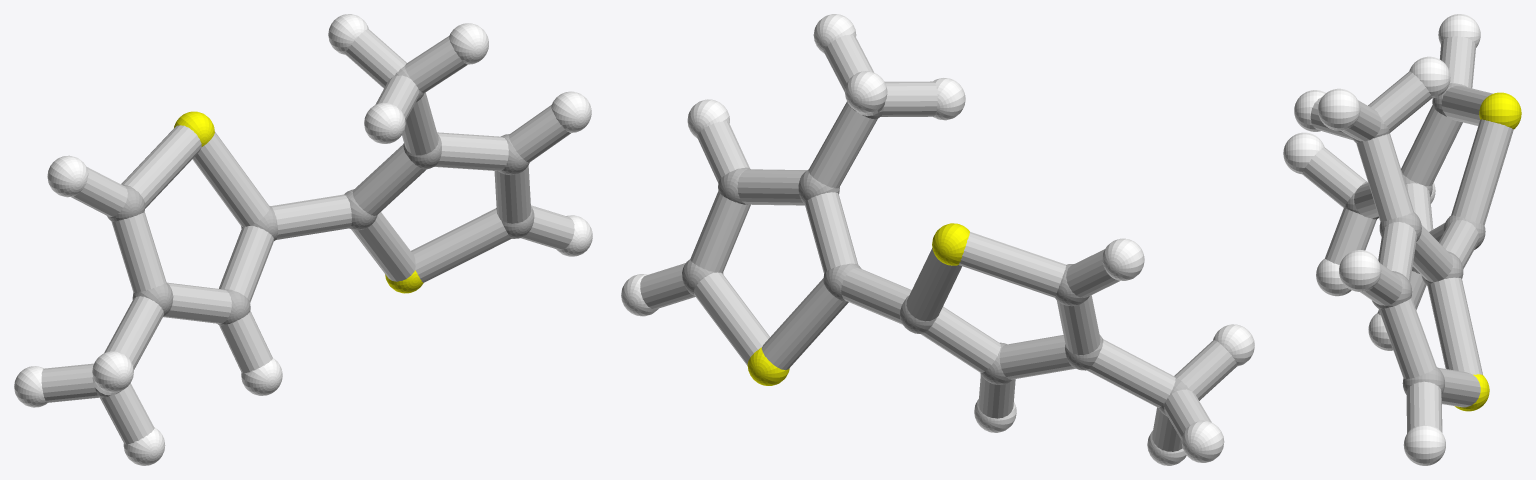
File: Methylthiophene_Phi_25_Theta_50_Methylthiophene.glb
3 renders of one model, left to right at view 1: azimuth 30°, elevation 25°; view 2: azimuth 150°, elevation 25°; view 3: azimuth 270°, elevation 25°, orthographic. The views are drawn at different scales.
Parts seen in each view (by area): view 1: grp7965, grp3621, grp1, grp7241; view 2: grp7965, grp3621, grp1, grp7241; view 3: grp7965, grp3621, grp1, grp7241.
Boxes of the visible parts, <box> form: grp7965: <box>41,29,574,444</box>; grp3621: <box>14,14,592,465</box>; grp1: <box>95,66,534,397</box>; grp7241: <box>174,111,423,293</box>; grp7965: <box>640,34,1237,451</box>; grp3621: <box>621,14,1254,465</box>; grp1: <box>682,103,1190,416</box>; grp7241: <box>747,223,969,385</box>; grp7965: <box>1302,36,1513,433</box>; grp3621: <box>1283,14,1480,465</box>; grp1: <box>1344,83,1485,394</box>; grp7241: <box>1454,92,1521,411</box>.
Size of the model in its own units: 9.62 by 5.71 by 3.38.
